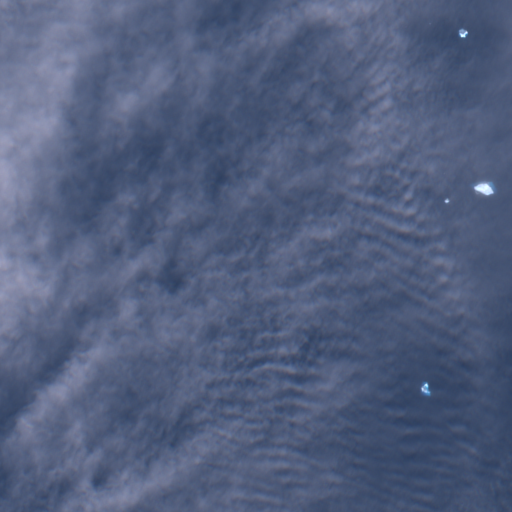Iceberg: (474, 184, 493, 194), (421, 383, 430, 393), (459, 29, 467, 37), (444, 199, 449, 202)
